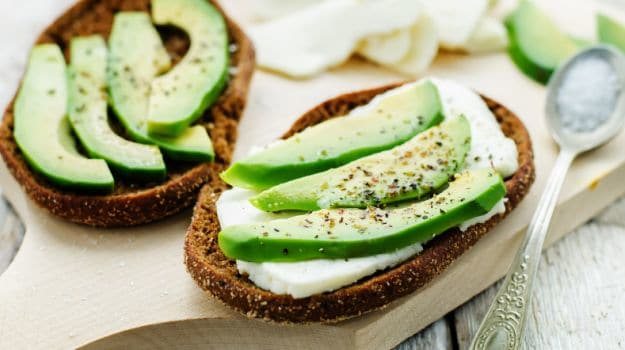slice of bread: (182, 75, 532, 321), (3, 138, 223, 240)
